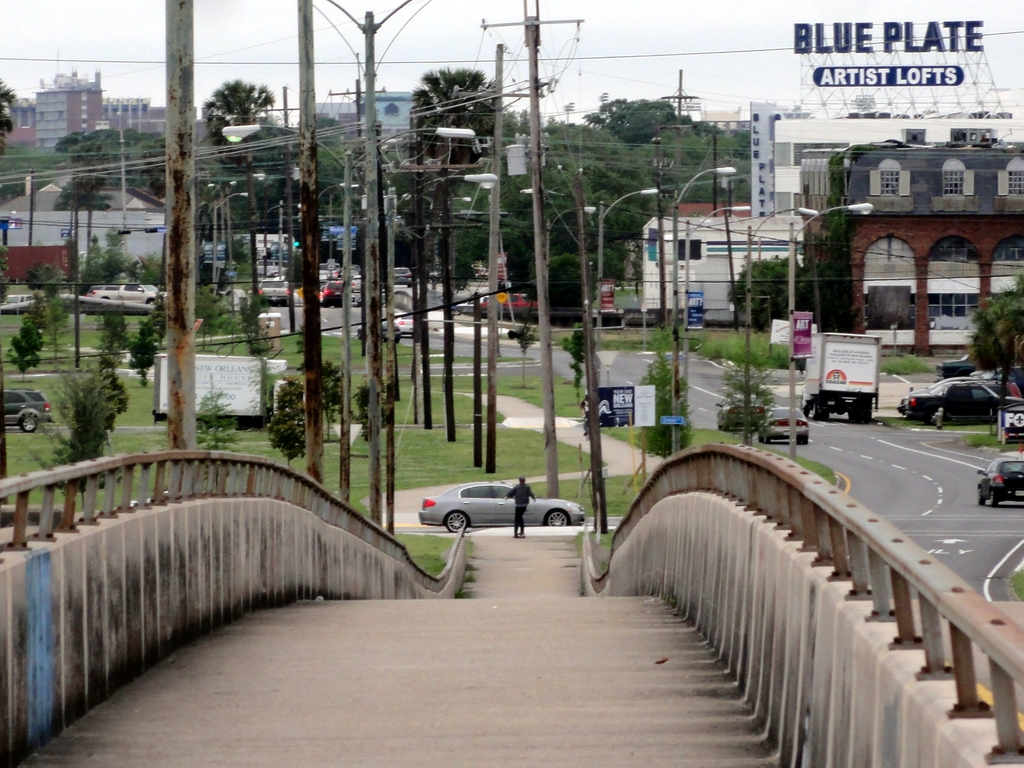mobil: (416, 476, 594, 530)
